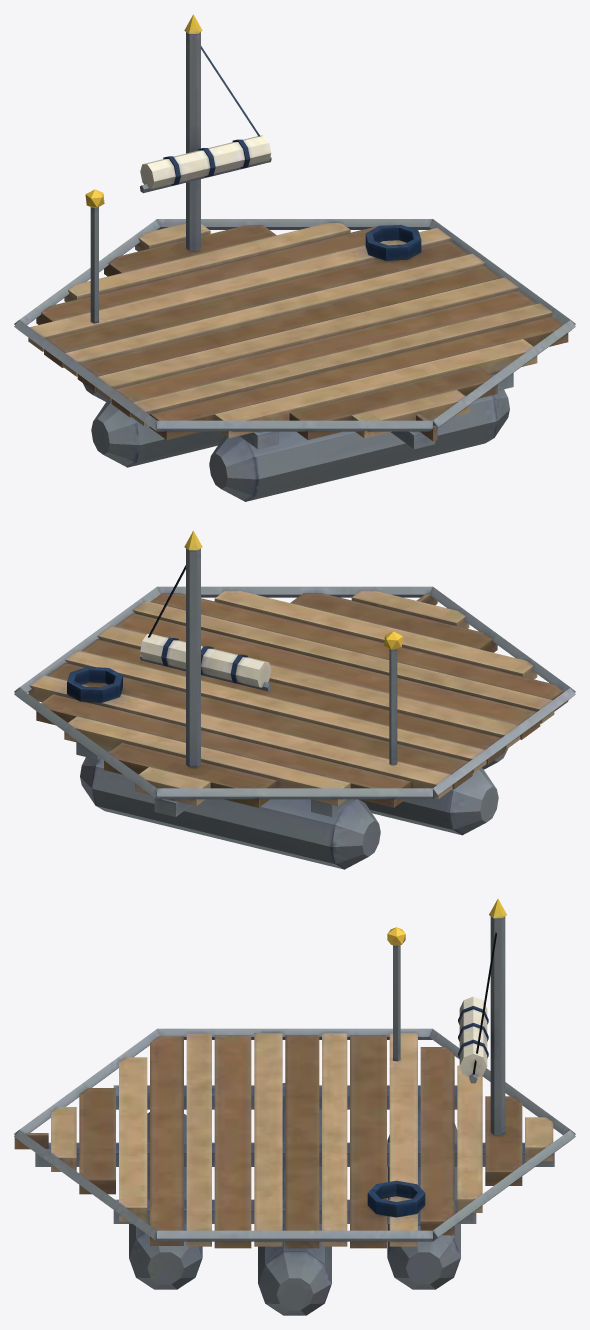
Rendered from raft-a-age20.glb.
3 renders of one model, top to bottom at view 1: azimuth 30°, elevation 25°; view 2: azimuth 150°, elevation 25°; view 3: azimuth 270°, elevation 25°, orthographic.
Parts seen in each view (by area): view 1: raft-a-age20; view 2: raft-a-age20; view 3: raft-a-age20.
Part boxes in pixels (bbox=[...]): raft-a-age20: bbox=[14, 14, 575, 501]; raft-a-age20: bbox=[14, 530, 575, 869]; raft-a-age20: bbox=[14, 898, 575, 1315].
Size of the model in its own units: 1.59 by 1.19 by 1.83.
1 material, 1 textured.
